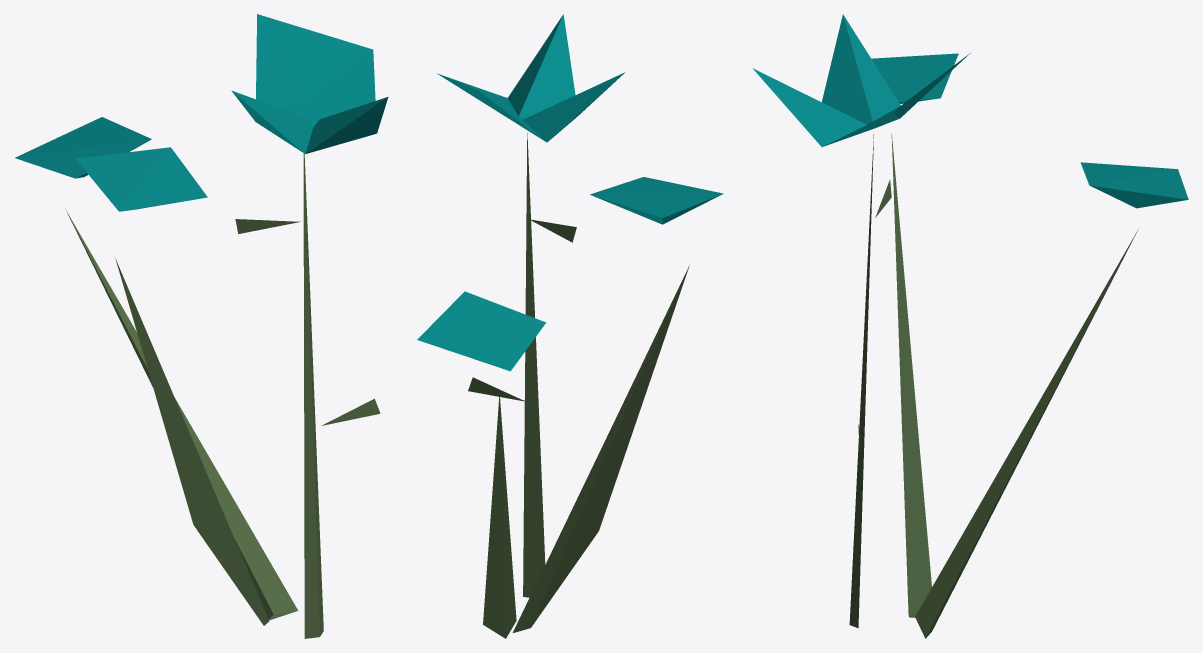
File: Flowers.lod3.glb
3 views of the same model, side by side, from view 1: azimuth 30°, elevation 25°; view 2: azimuth 150°, elevation 25°; view 3: azimuth 270°, elevation 25° (orthographic). The views are drawn at different scales.
Visible parts, largest first — view 1: Flowers; view 2: Flowers; view 3: Flowers.
Boxes of the visible parts, x1,y1,x2,y2 form: Flowers: (15,14,388,638); Flowers: (417,14,723,638); Flowers: (752,14,1188,638).
Size of the model in its own units: 0.4142 by 0.8384 by 0.5675.
